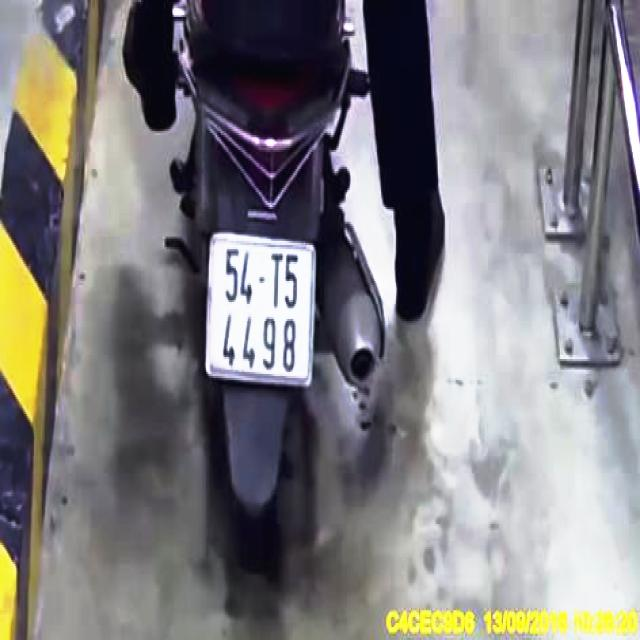license_plate: (207, 235, 314, 382)
